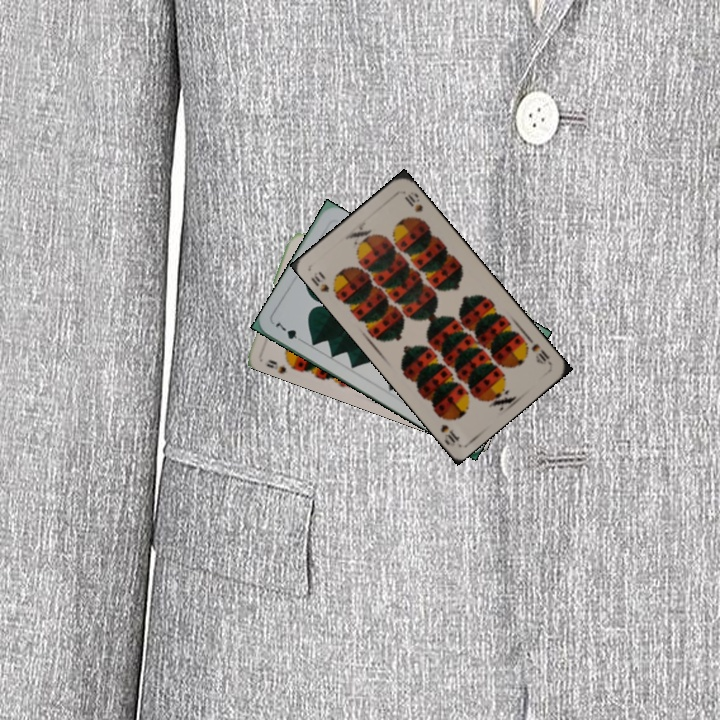G7: (271, 317, 307, 345)
S10: (307, 267, 341, 299), (527, 339, 553, 367)
S9: (264, 355, 298, 372)
